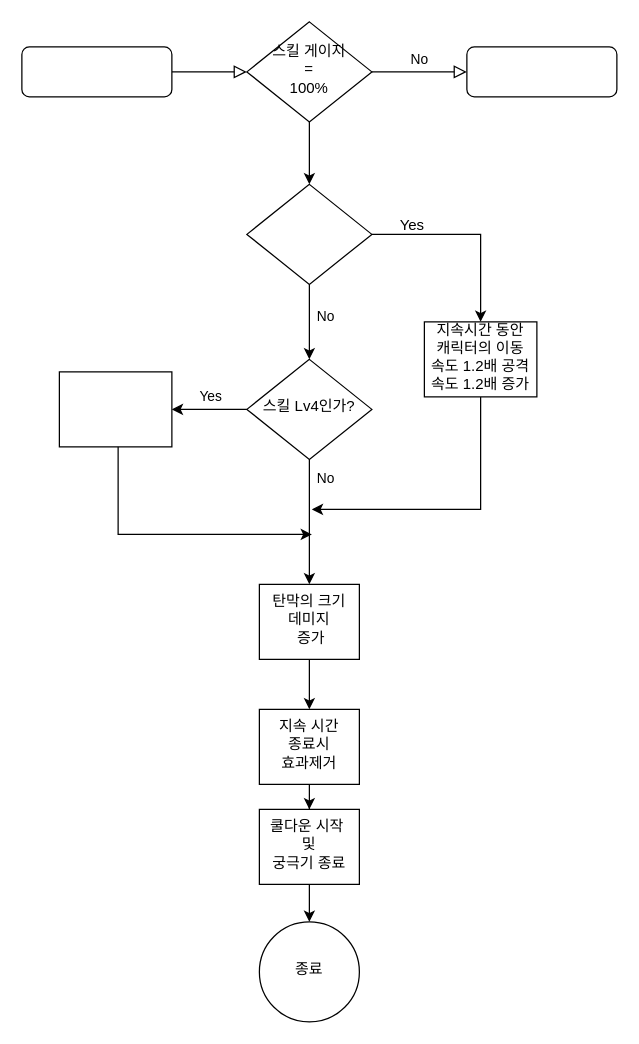
This 639x1044 diagram has some shape labels left out. Here are the shapes that lost their labels. From the top down, the centre of each, then its label:
At (x=96, y=71): "스킬 키 입력".
At (x=541, y=71): "발동 안됨".
At (x=309, y=233): "스킬 LV5인가?".
At (x=115, y=409): "지속시간 동안 캐릭터의 이동속도 1.1배 증가".
